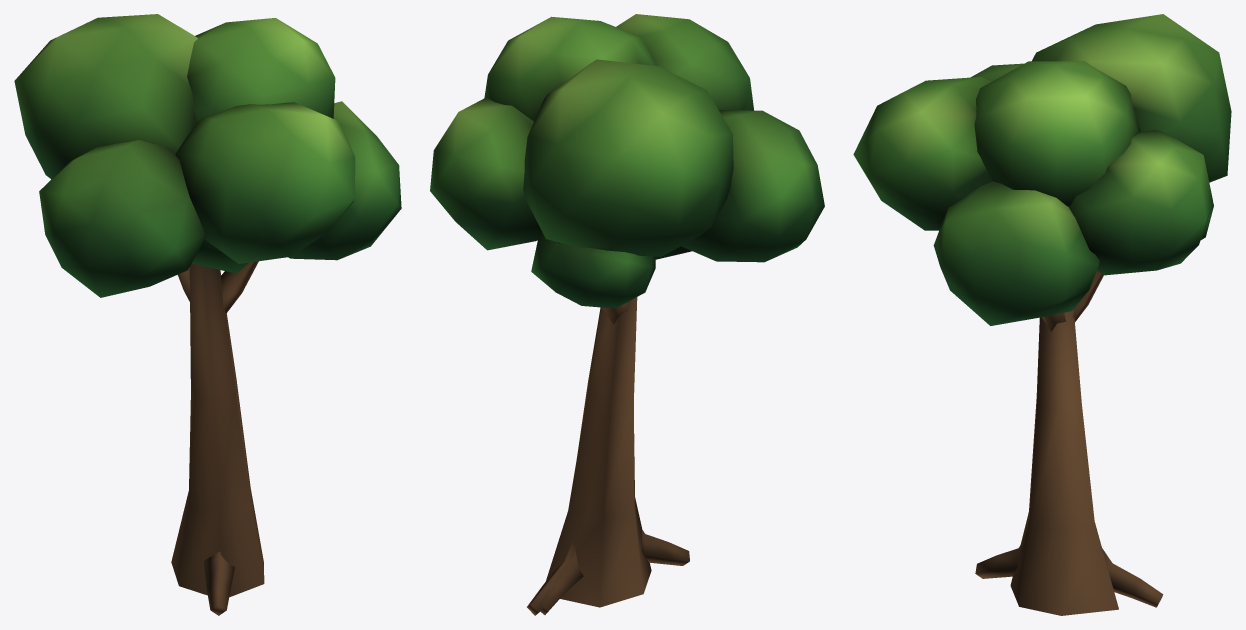
Rendered from tree-young-low.glb.
The picture shows the model from 3 angles, left to right: view 1: azimuth 30°, elevation 25°; view 2: azimuth 150°, elevation 25°; view 3: azimuth 270°, elevation 25°; orthographic projection.
Visible parts, largest first — view 1: 1_leaves, 0_trunk; view 2: 1_leaves, 0_trunk; view 3: 1_leaves, 0_trunk.
Boxes of the visible parts, x1=… form: 1_leaves: x1=14, y1=14, x2=401, y2=297; 0_trunk: x1=171, y1=261, x2=264, y2=615; 1_leaves: x1=430, y1=14, x2=824, y2=308; 0_trunk: x1=527, y1=297, x2=689, y2=615; 1_leaves: x1=853, y1=14, x2=1231, y2=325; 0_trunk: x1=975, y1=271, x2=1163, y2=615.
Size of the model in its own units: 1.97 by 3.06 by 1.92.
